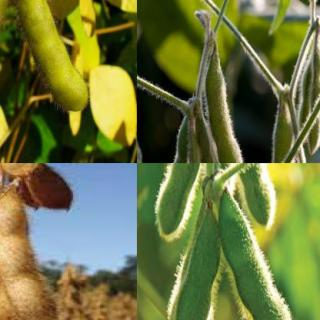soya: (219, 192, 296, 319), (12, 0, 88, 110), (0, 191, 50, 314), (171, 216, 220, 320), (154, 163, 210, 239), (206, 56, 246, 162), (232, 163, 278, 228), (307, 31, 319, 154), (266, 111, 294, 162), (194, 119, 224, 162), (163, 120, 190, 162), (186, 140, 204, 162)
